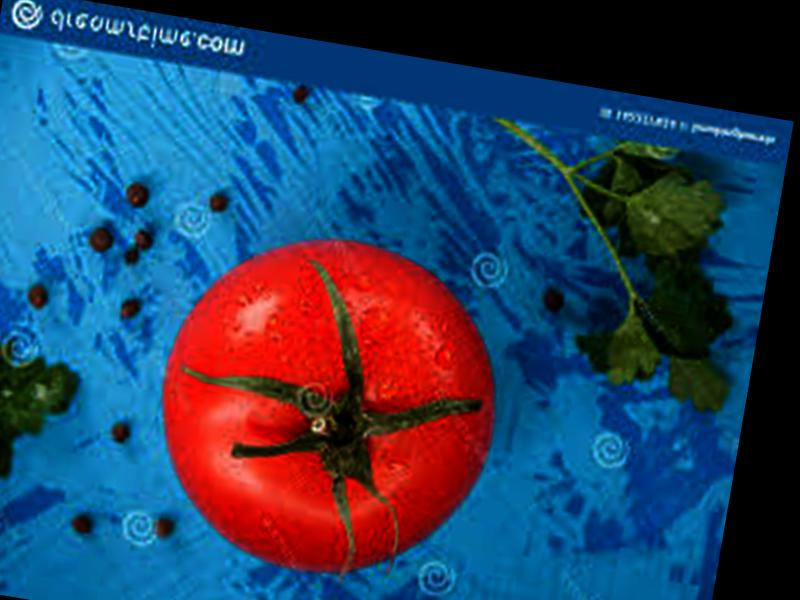Tomato: (137, 214, 520, 596)
